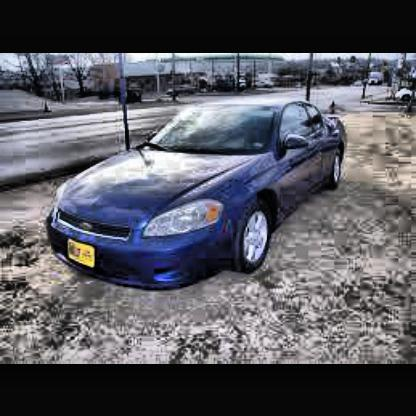Chevrolet Monte Carlo Coupe 2007: (49, 99, 347, 293)
